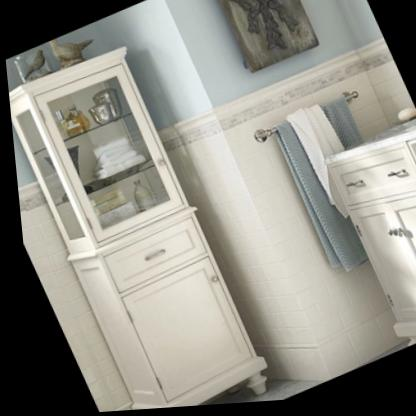Cupboard: (7, 49, 260, 411)
